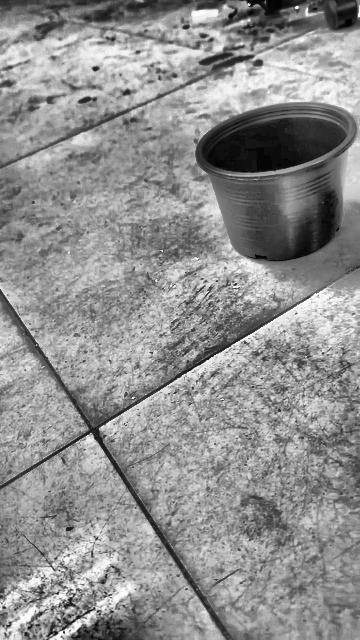pot: (196, 102, 359, 261)
